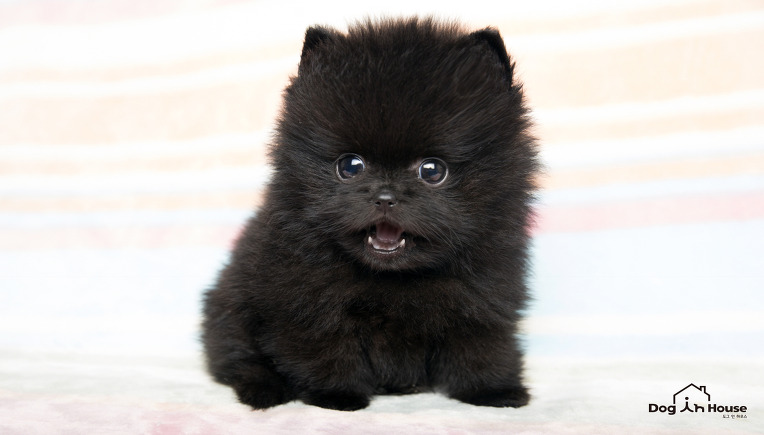pomeranian: (195, 8, 568, 415)
